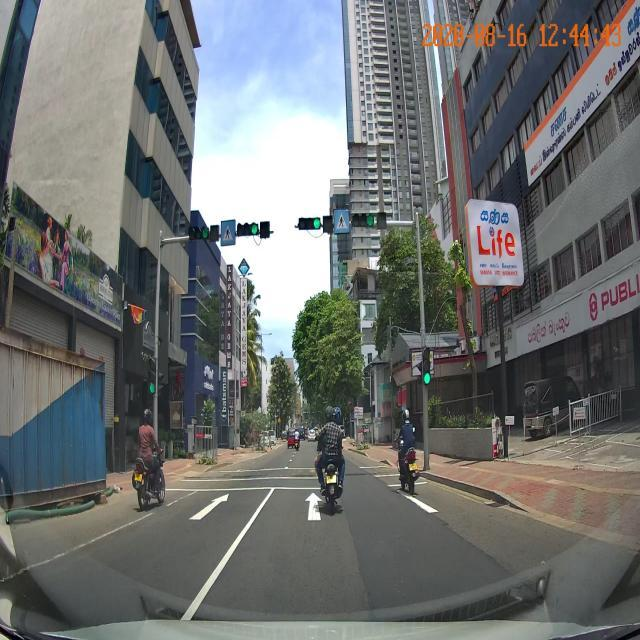forward: (143, 485, 274, 526)
